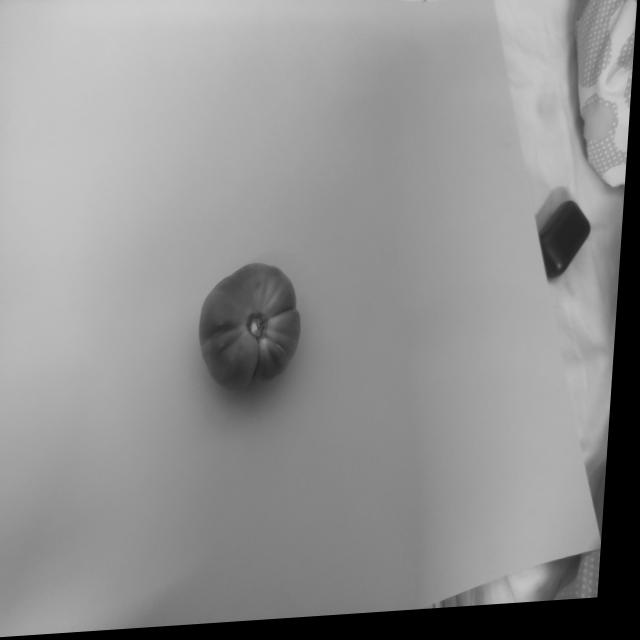yesil: (176, 253, 328, 406)
